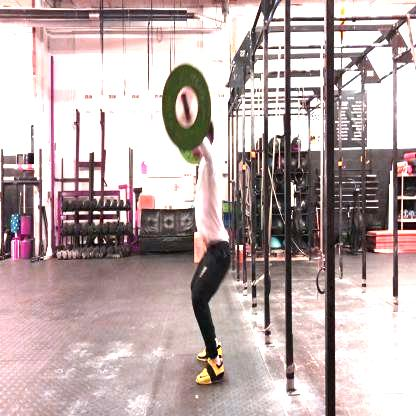Barbell: (180, 86, 189, 108)
